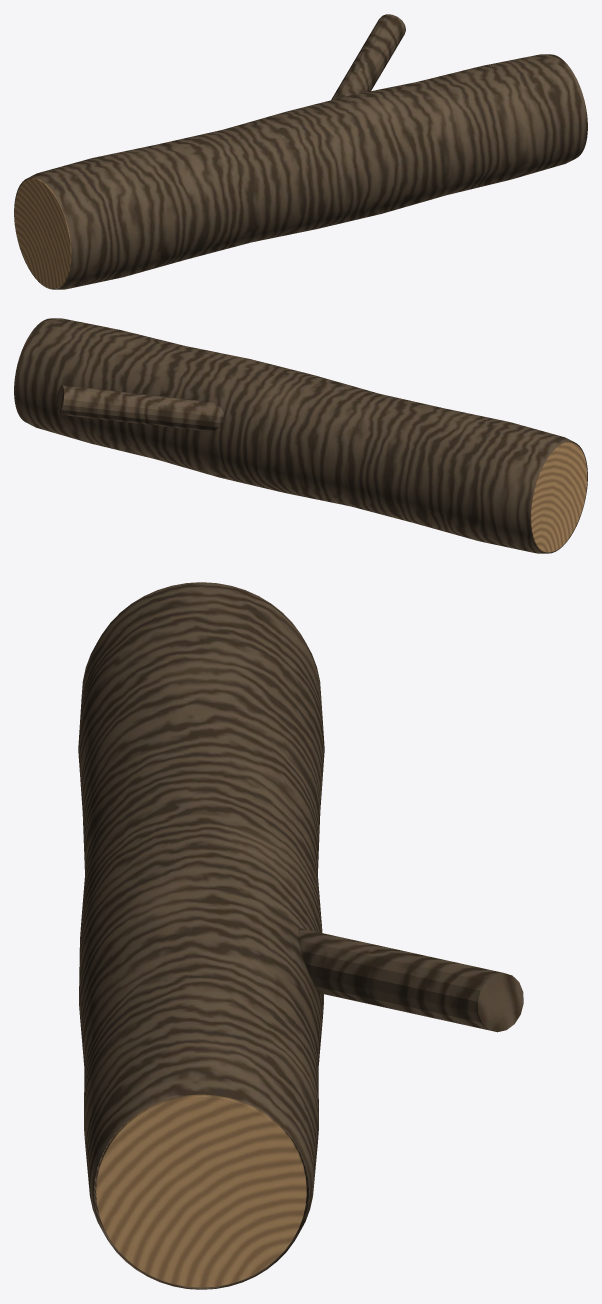
The model's file is thin-branchy.glb.
3 views of the same model, one above another, from view 1: azimuth 30°, elevation 25°; view 2: azimuth 150°, elevation 25°; view 3: azimuth 270°, elevation 25° (orthographic). The views are drawn at different scales.
Parts seen in each view (by area): view 1: bark, endgrain; view 2: bark, endgrain; view 3: bark, endgrain.
Boxes of the visible parts, x1,y1,x2,y2 form: bark: (14, 14, 587, 289); endgrain: (14, 178, 71, 288); bark: (14, 318, 587, 553); endgrain: (530, 442, 587, 552); bark: (78, 582, 523, 1289); endgrain: (96, 1094, 306, 1287).
Bounding box in the file's own units: 1.1 × 0.2391 × 0.4094.
2 materials, 2 textured.
